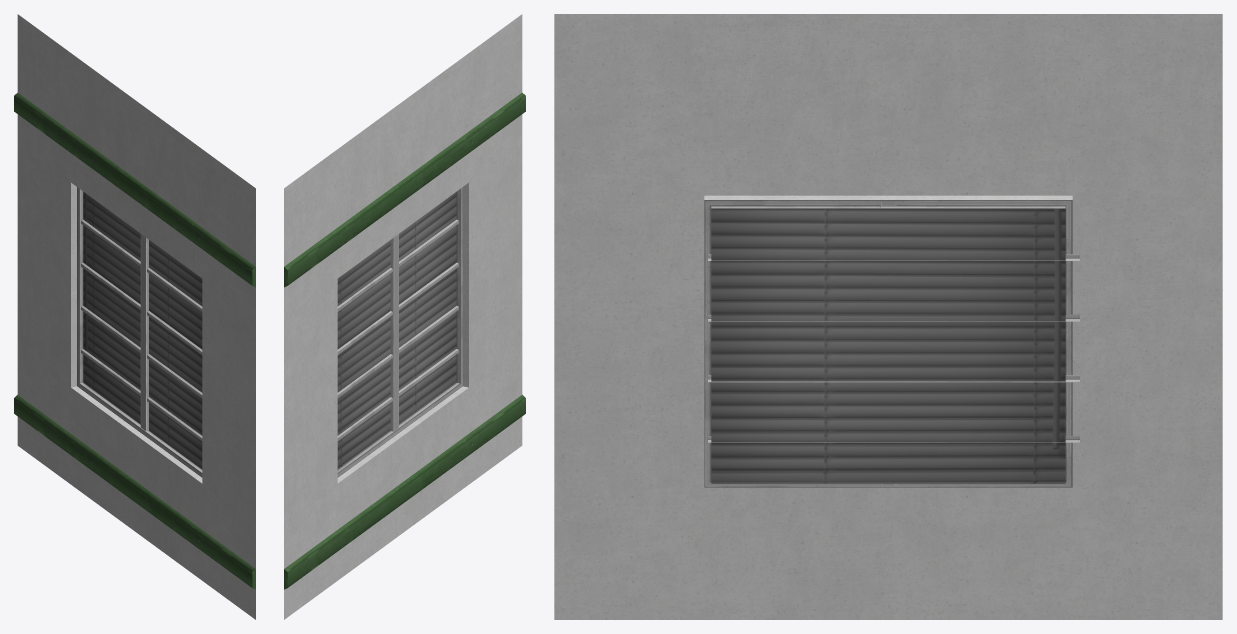
Rendered from MB_Wall_Window_C_02.fbx.
3 renders of one model, left to right at view 1: azimuth 30°, elevation 25°; view 2: azimuth 150°, elevation 25°; view 3: azimuth 270°, elevation 25°, orthographic. The views are drawn at different scales.
Parts seen in each view (by area): view 1: MB_Wall_Window_C_02; view 2: MB_Wall_Window_C_02; view 3: MB_Wall_Window_C_02.
Part boxes in pixels (left/top/right/bottom): MB_Wall_Window_C_02: left=14, top=14, right=255, bottom=619; MB_Wall_Window_C_02: left=284, top=14, right=525, bottom=619; MB_Wall_Window_C_02: left=554, top=14, right=1222, bottom=619.
Size of the model in its own units: 14.36 by 400 by 400.
